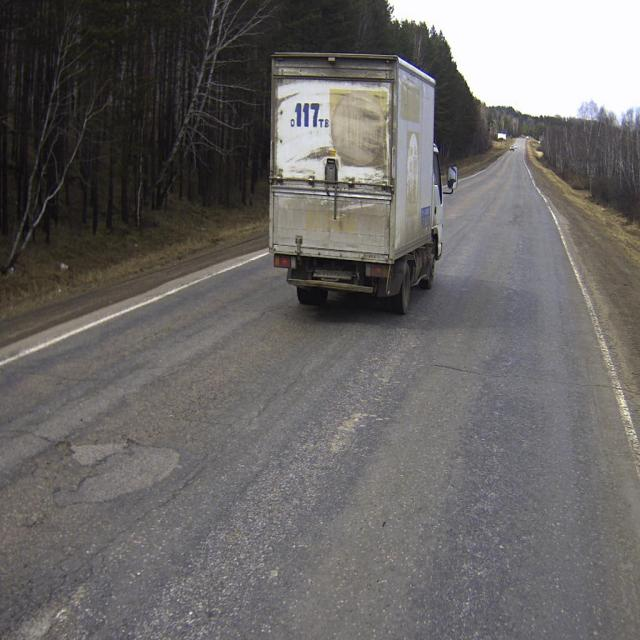road: (0, 139, 640, 639), (444, 187, 451, 191)
